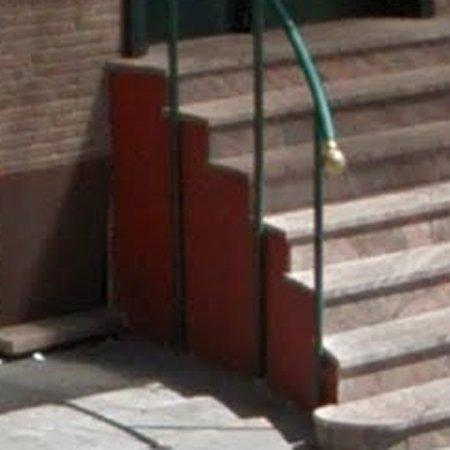stairs: (303, 14, 450, 450), (266, 29, 313, 289), (183, 35, 252, 174)
